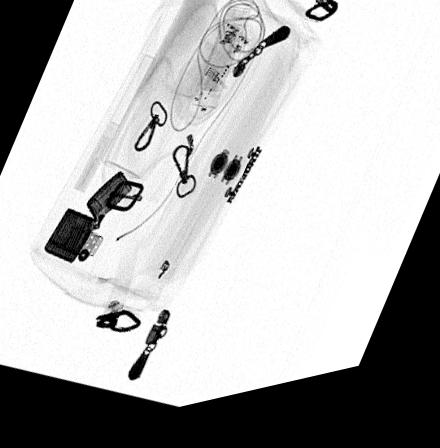Lighter: (44, 173, 133, 267)
